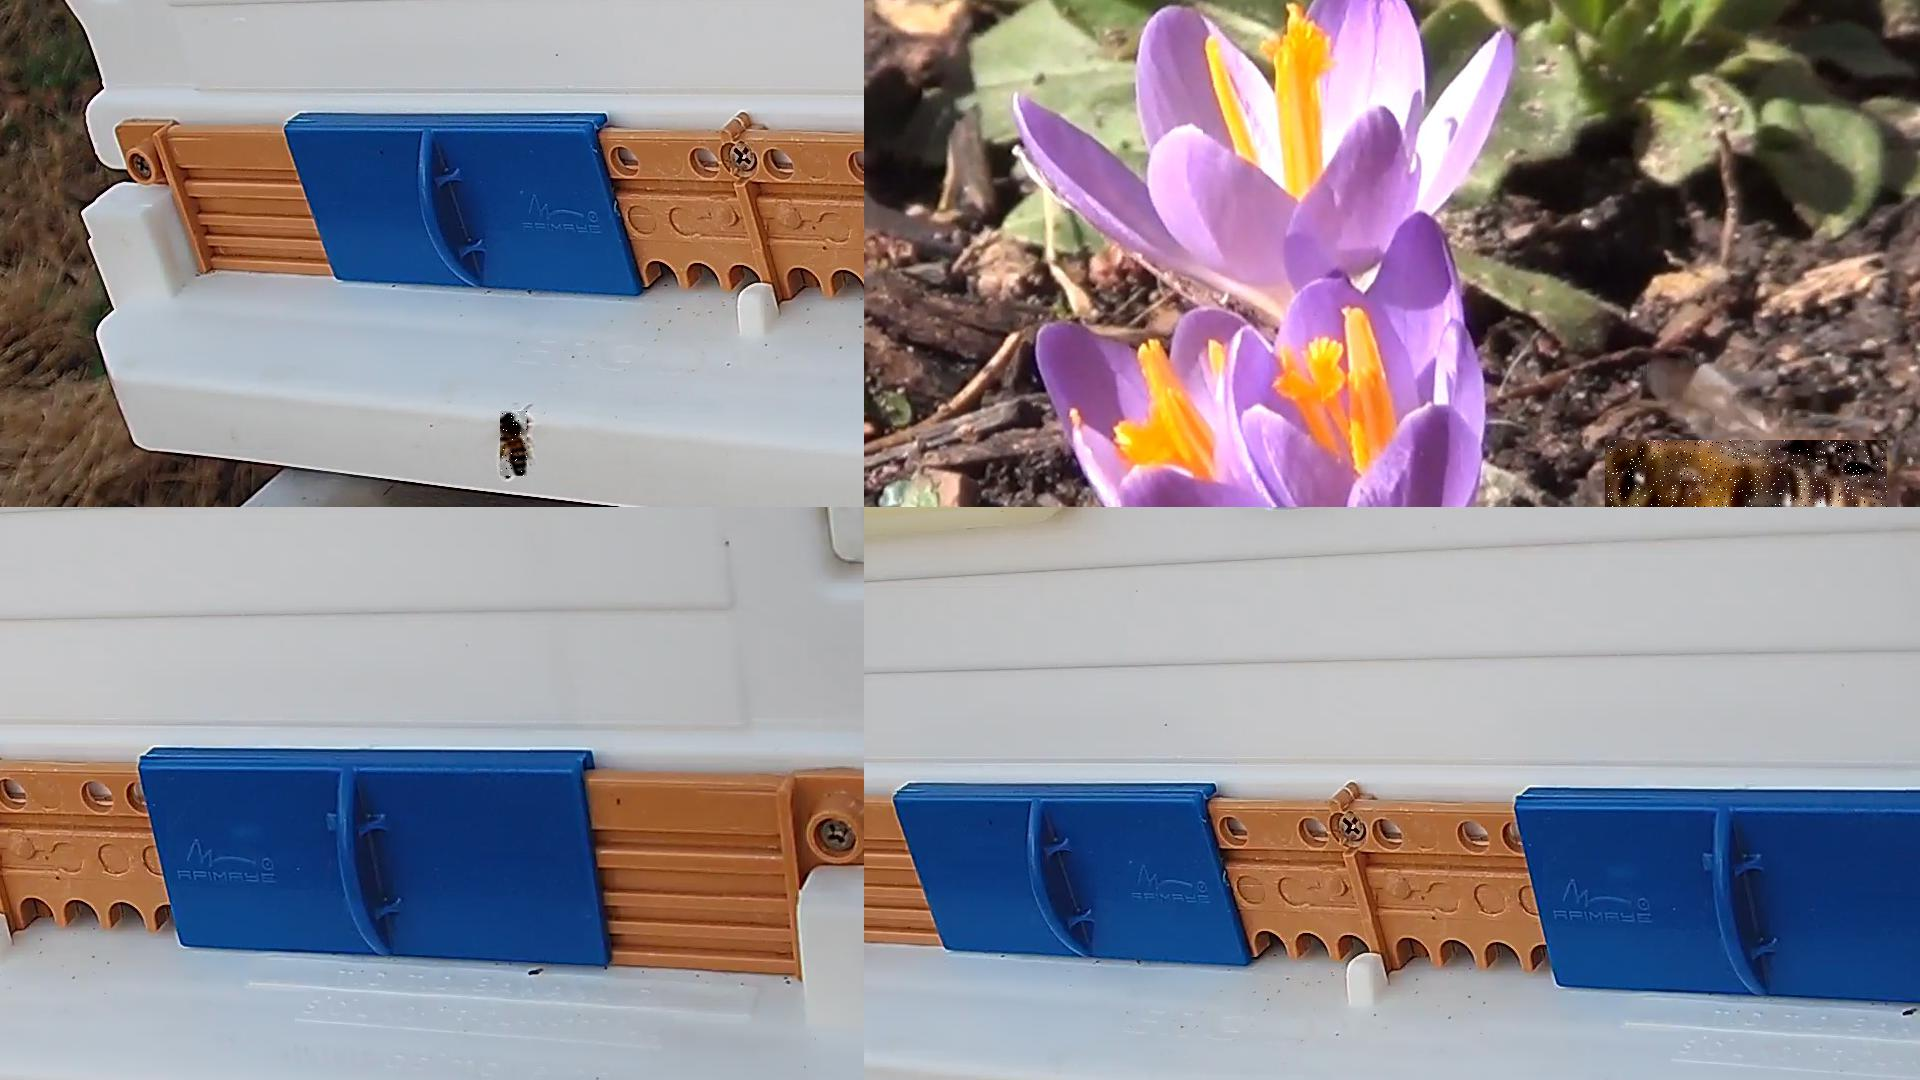bee: (500, 411, 527, 477)
pollenbee: (1605, 440, 1888, 506)
